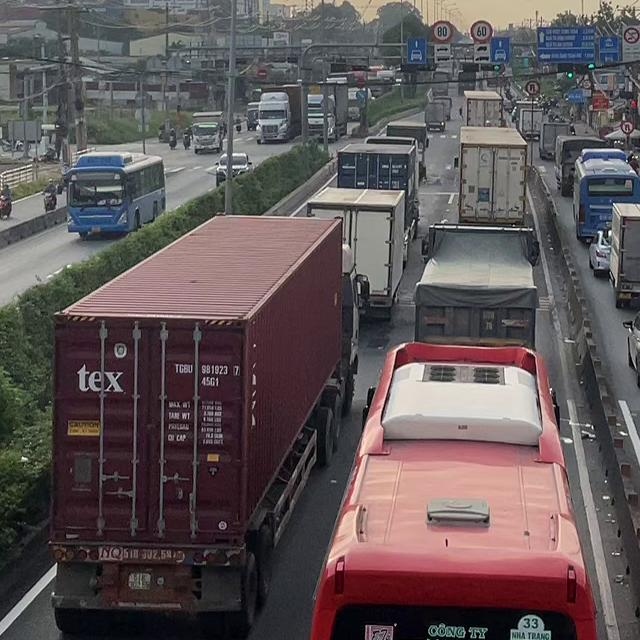bus: (309, 340, 597, 639), (63, 151, 166, 240), (571, 149, 639, 243)
car: (622, 309, 639, 388), (215, 152, 252, 182), (588, 229, 611, 276)
motorcycle: (42, 189, 56, 212), (0, 194, 12, 219), (182, 133, 192, 149), (168, 134, 177, 150)
truck: (47, 211, 360, 636), (413, 222, 539, 349), (306, 185, 408, 320), (337, 137, 420, 263), (455, 125, 528, 223), (553, 134, 610, 196), (607, 202, 639, 308), (255, 84, 306, 144), (384, 125, 428, 186), (463, 90, 505, 127), (191, 112, 224, 154), (538, 121, 570, 160), (517, 107, 545, 140), (424, 101, 446, 131), (432, 97, 452, 120), (246, 102, 259, 130)
